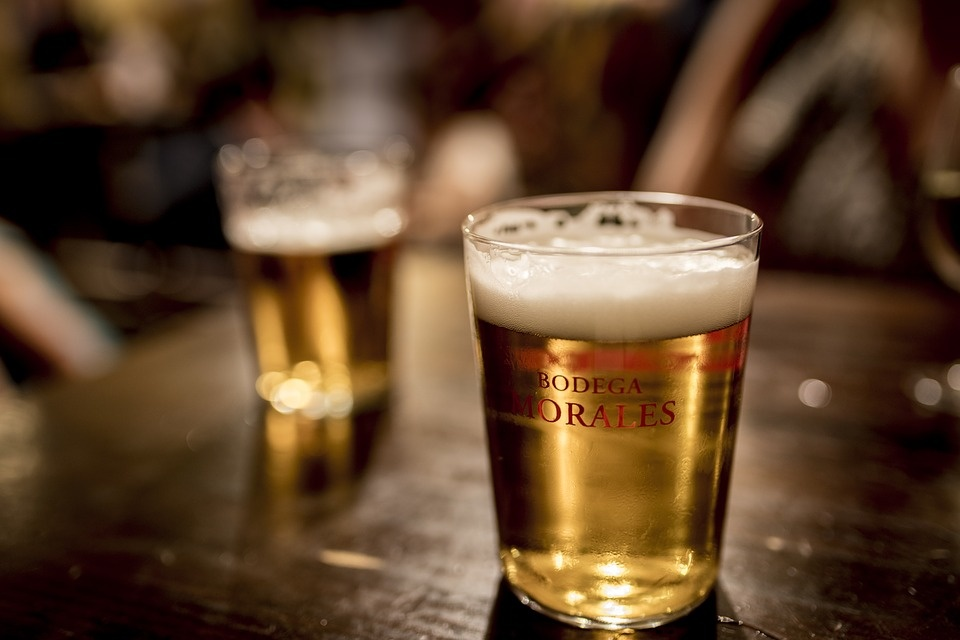glassBeer: (480, 193, 773, 610)
